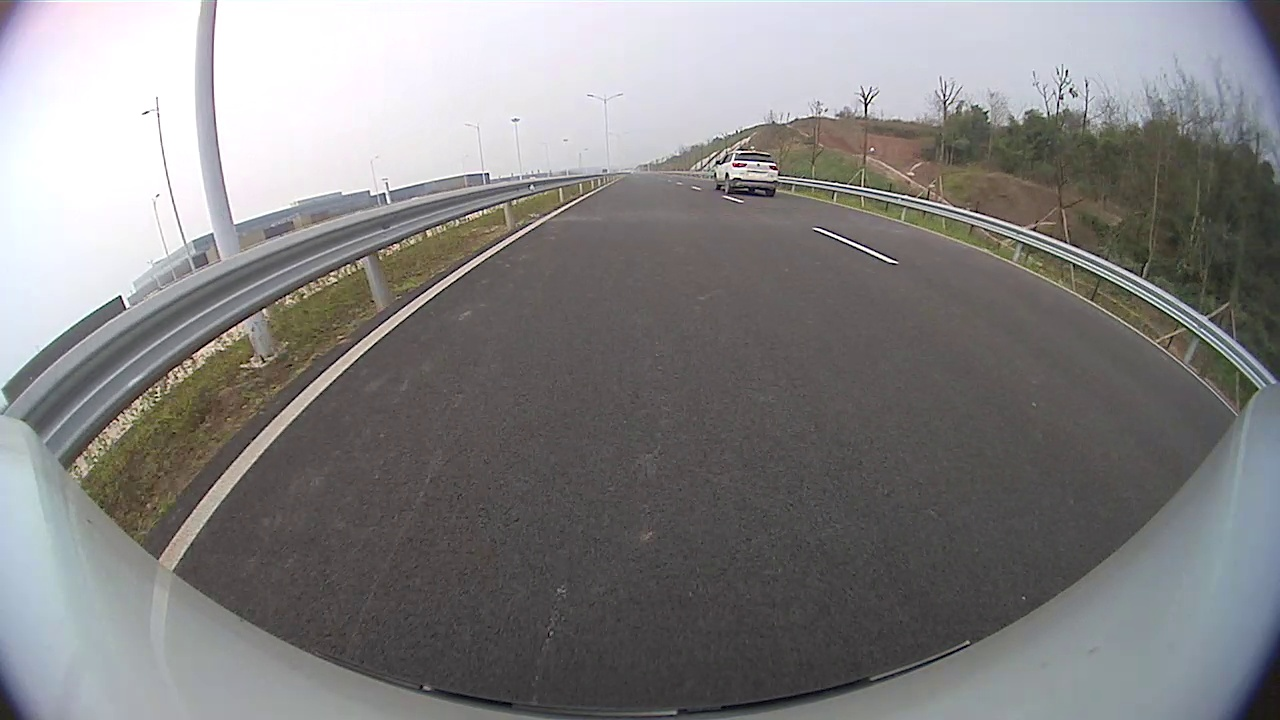car: (713, 149, 779, 197)
front: (711, 175, 721, 191)
rear: (722, 176, 733, 195)
